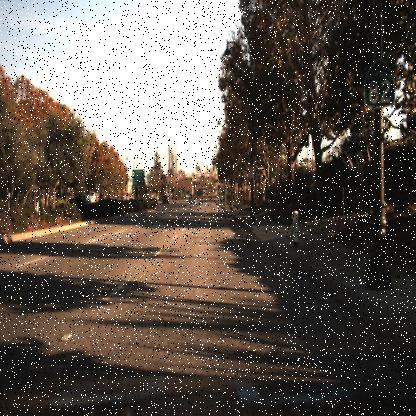car: (68, 190, 94, 210), (186, 191, 198, 210), (161, 192, 171, 208)
